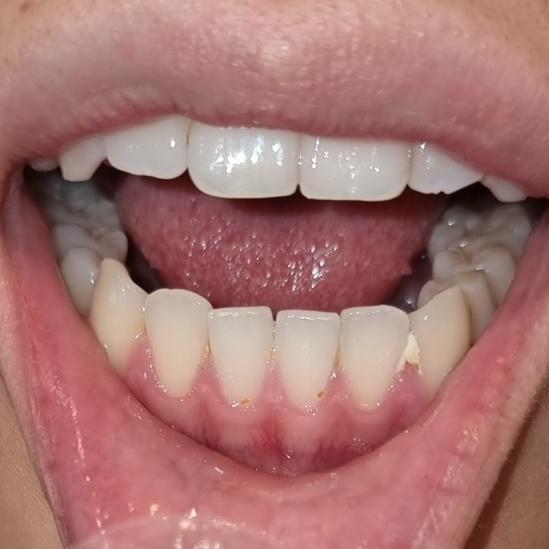Healthy: (205, 307, 407, 412), (189, 118, 410, 200)
